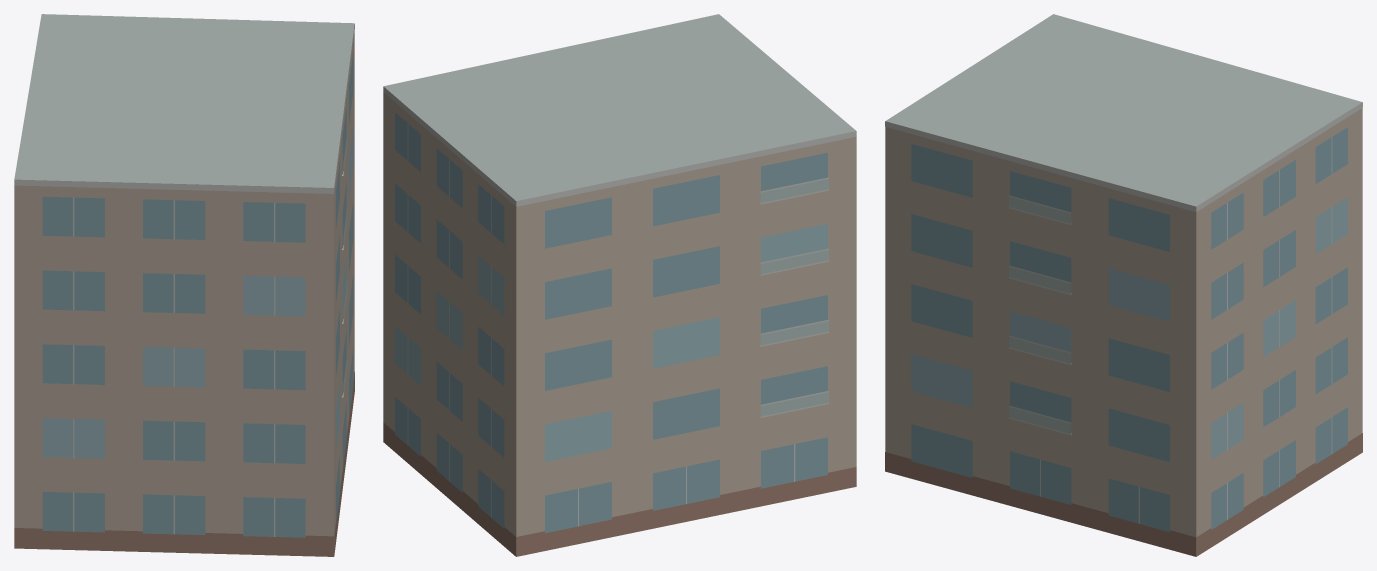
Rendered from survey-upis-32707440.glb.
3 renders of one model, left to right at view 1: azimuth 30°, elevation 25°; view 2: azimuth 150°, elevation 25°; view 3: azimuth 270°, elevation 25°, orthographic. The views are drawn at different scales.
Visible parts, largest first — view 1: survey-upis-32707440.tmp; view 2: survey-upis-32707440.tmp; view 3: survey-upis-32707440.tmp.
Part boxes in pixels (<box>): survey-upis-32707440.tmp: <box>14,14,354,556</box>; survey-upis-32707440.tmp: <box>383,14,856,556</box>; survey-upis-32707440.tmp: <box>885,14,1362,556</box>.
Bounding box in the file's own units: 17.99 × 15.25 × 18.85.
